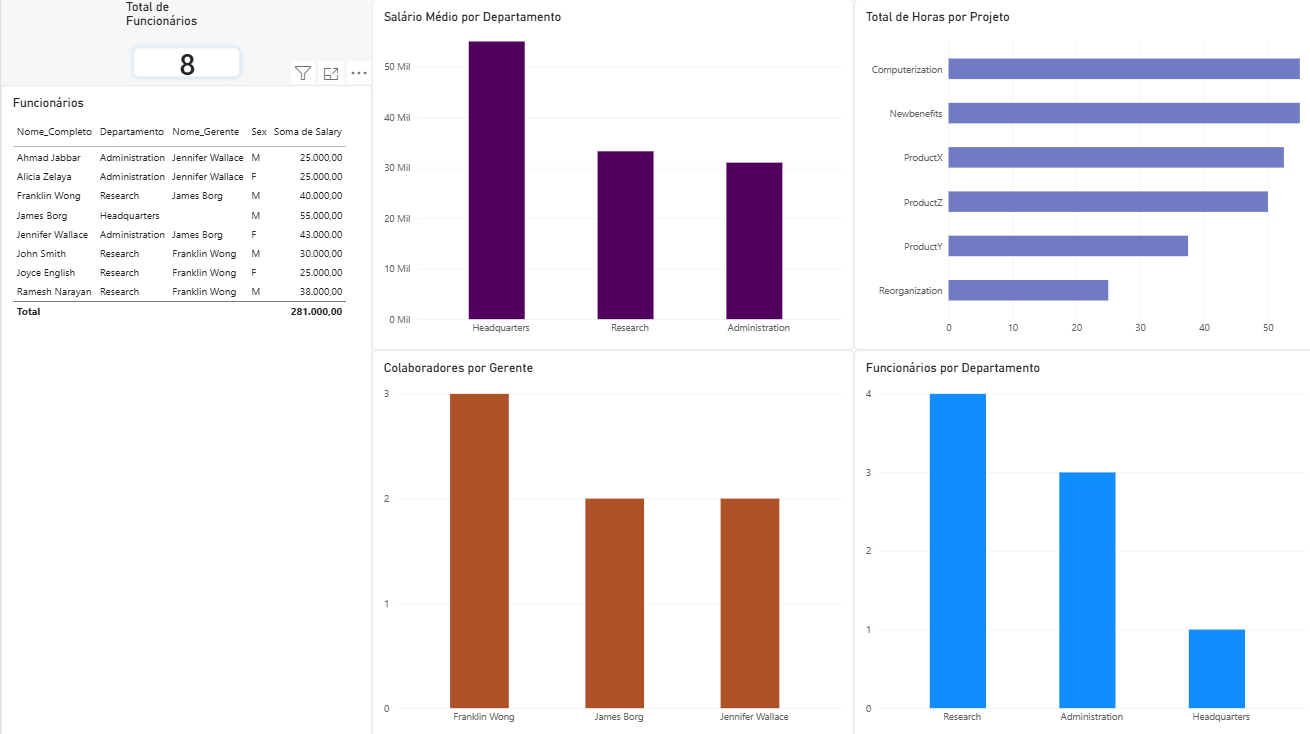

The page's visual inventory and layout, read from the dashboard file:
{"tool":"powerbi","page":{"name":"Página 1","canvas":[1920,1080],"ordinal":0},"visuals":[{"type":"lineStackedColumnComboChart","title":"Funcionários por Departamento","fields":{"Category":["company_constraints vw_funcionarios.Departamento"],"Y":["CountNonNull(company_constraints vw_funcionarios.Ssn)"]},"box":[1244.5,512.1,675.5,567.5],"z":0},{"type":"clusteredBarChart","title":"Total de Horas por Projeto","fields":{"Category":["company_constraints vw_horas_por_projeto.Projeto"],"Y":["Sum(company_constraints vw_horas_por_projeto.Total_Horas)"]},"box":[1244.5,0,675.5,512.1],"z":1000},{"type":"clusteredColumnChart","title":"Colaboradores por Gerente","fields":{"Category":["company_constraints vw_colaboradores_por_gerente.Nome_Gerente"],"Y":["Sum(company_constraints vw_colaboradores_por_gerente.Qtd_Colaboradores)"]},"box":[541.3,512.1,703.2,567.5],"z":2000},{"type":"lineClusteredColumnComboChart","title":"Salário Médio por Departamento","fields":{"Category":["company_constraints vw_funcionarios.Departamento"],"Y":["Avg(company_constraints vw_funcionarios.Salary)"]},"box":[541.3,0,703.2,512.1],"z":2001},{"type":"tableEx","title":"Funcionários","fields":{"Values":["company_constraints vw_funcionarios.Nome_Completo","company_constraints vw_funcionarios.Departamento","company_constraints vw_funcionarios.Nome_Gerente","company_constraints vw_funcionarios.Sex","Sum(company_constraints vw_funcionarios.Salary)"]},"box":[0,125.5,541.3,954.2],"z":2002},{"type":"cardVisual","title":"Total de Funcionários","fields":{"Data":["CountNonNull(company_constraints vw_funcionarios.Ssn)"]},"box":[182.4,0,178,125.5],"z":2003}]}

Visuals, with their boxes in screenshot pixels (x1, y1, x2, y2), scaled from the page's 1920x1080 canvas onto the 1310x734 screenshot:
"Funcionários por Departamento" lineStackedColumnComboChart: <box>849,348,1309,733</box>
"Total de Horas por Projeto" clusteredBarChart: <box>849,0,1309,348</box>
"Colaboradores por Gerente" clusteredColumnChart: <box>369,348,849,733</box>
"Salário Médio por Departamento" lineClusteredColumnComboChart: <box>369,0,849,348</box>
"Funcionários" tableEx: <box>0,85,369,733</box>
"Total de Funcionários" cardVisual: <box>124,0,246,85</box>
